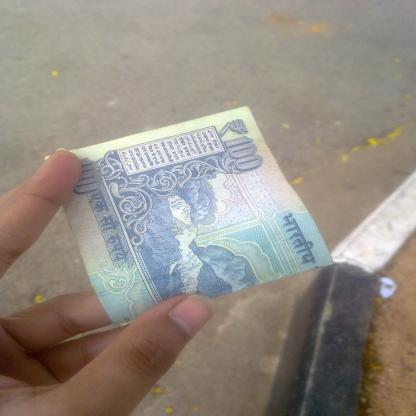Old100Back: (44, 106, 335, 326)
